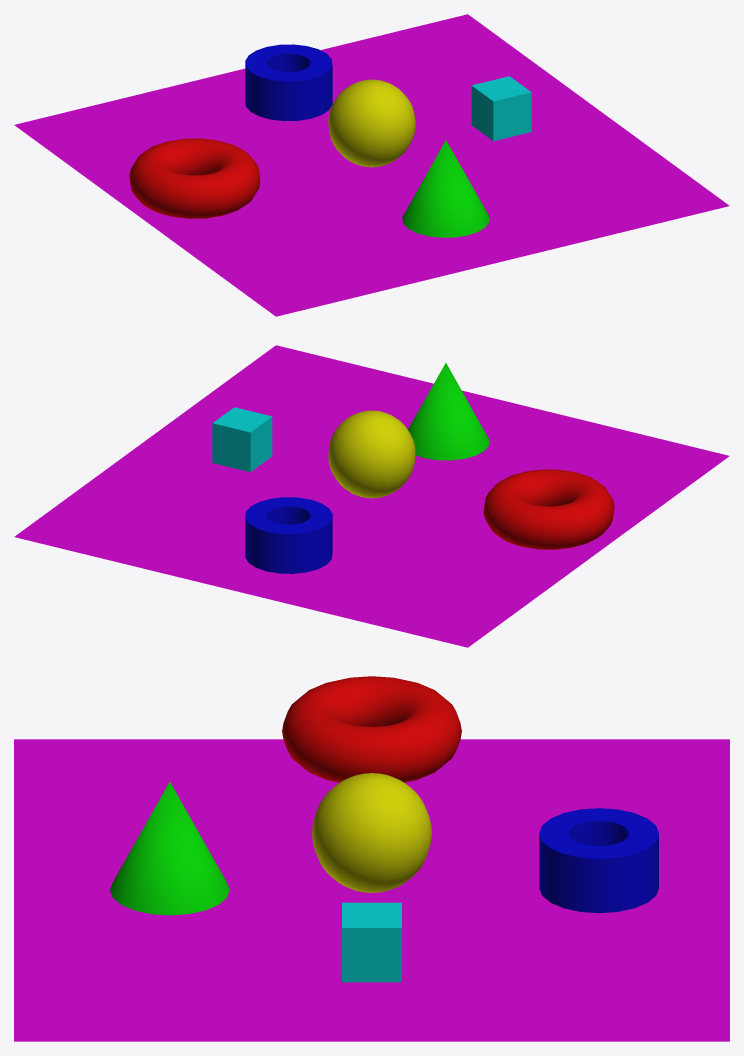
The picture shows the model from 3 angles, top to bottom: view 1: azimuth 30°, elevation 25°; view 2: azimuth 150°, elevation 25°; view 3: azimuth 270°, elevation 25°; orthographic projection. The views are drawn at different scales.
Visible parts, largest first — view 1: pPlane1, pTorus1, pSphere1, pPipe1, pCone1, pCube1; view 2: pPlane1, pTorus1, pSphere1, pPipe1, pCone1, pCube1; view 3: pPlane1, pTorus1, pSphere1, pPipe1, pCone1, pCube1.
Boxes of the visible parts, left/top/right/bottom form: pPlane1: left=14, top=14, right=729, bottom=316; pTorus1: left=129, top=138, right=260, bottom=218; pSphere1: left=328, top=79, right=415, bottom=167; pPipe1: left=245, top=44, right=332, bottom=121; pCone1: left=402, top=140, right=489, bottom=237; pCube1: left=471, top=76, right=531, bottom=141; pPlane1: left=14, top=345, right=729, bottom=647; pTorus1: left=483, top=469, right=614, bottom=549; pSphere1: left=328, top=410, right=415, bottom=498; pPipe1: left=245, top=497, right=332, bottom=573; pCone1: left=408, top=363, right=489, bottom=460; pCube1: left=212, top=407, right=272, bottom=472; pPlane1: left=14, top=739, right=729, bottom=1041; pTorus1: left=282, top=676, right=461, bottom=782; pSphere1: left=312, top=773, right=431, bottom=892; pPipe1: left=539, top=808, right=658, bottom=913; pCone1: left=110, top=781, right=229, bottom=915; pCube1: left=342, top=902, right=401, bottom=982.
Size of the model in its own units: 12.12 by 2.06 by 11.94.
